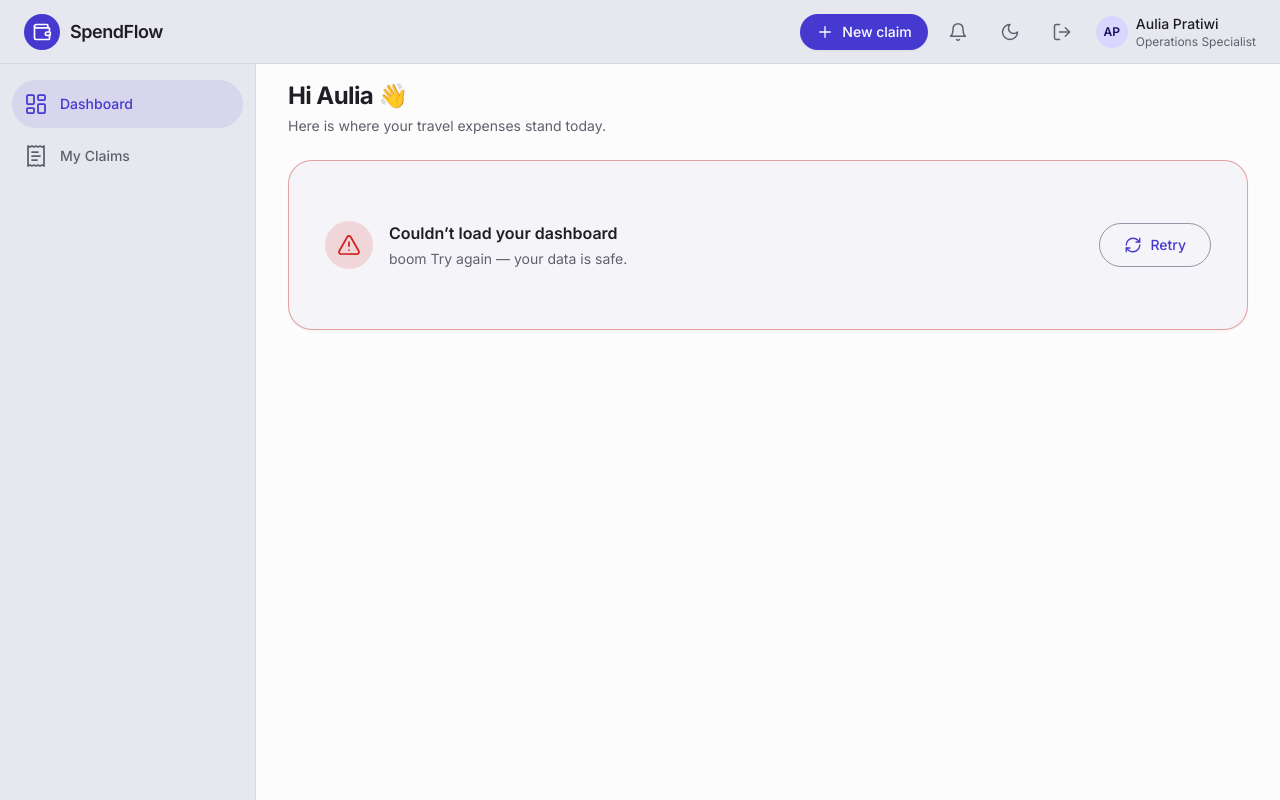
Test case: Employee dashboard — empty + error states › shows a retry-capable error state instead of a blank dashboard on load failure
Expected: the heading "Couldn’t load your dashboard" is shown, [389,223,618,243]
# Retry recovers: default impl runs again and the dashboard mounts.
Click the button "Retry" at (1155, 245), box [1099,223,1211,267]
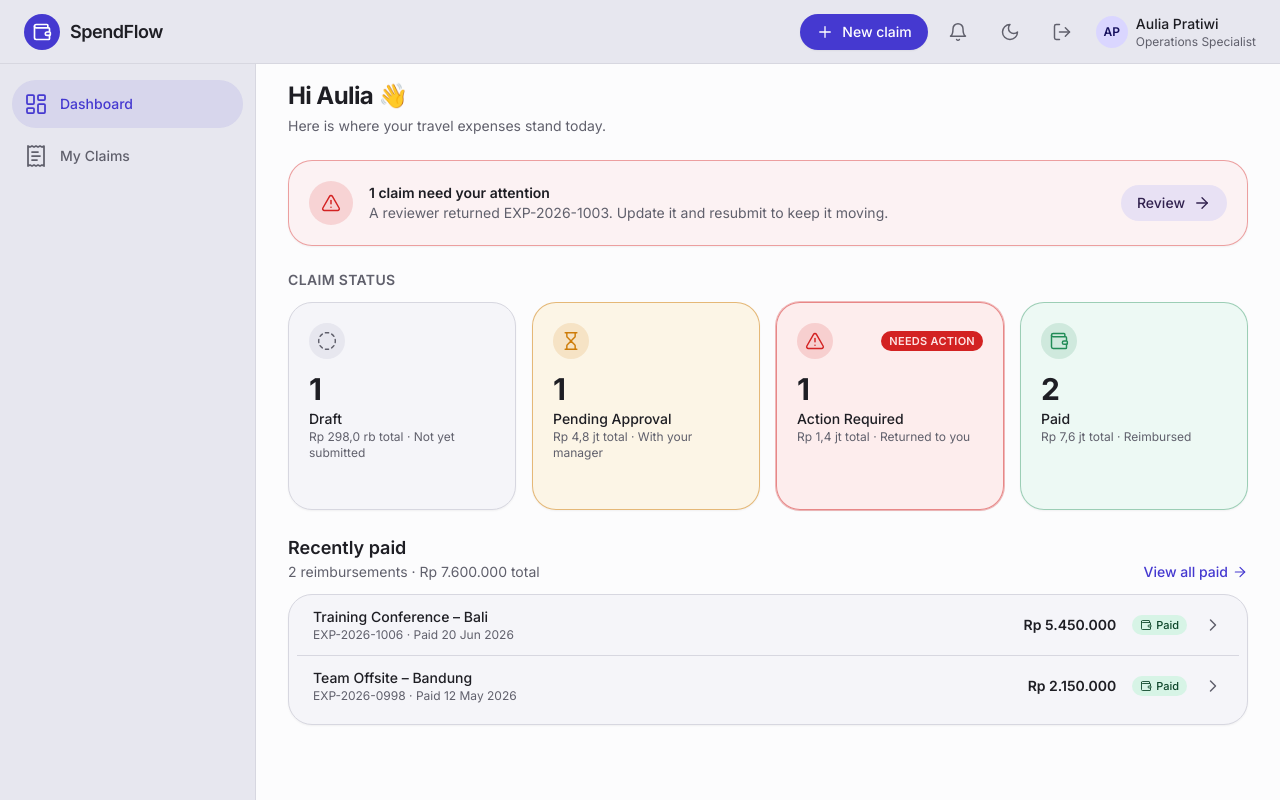
Now the element named "claim status summary" is shown, box [288,270,1248,510]
